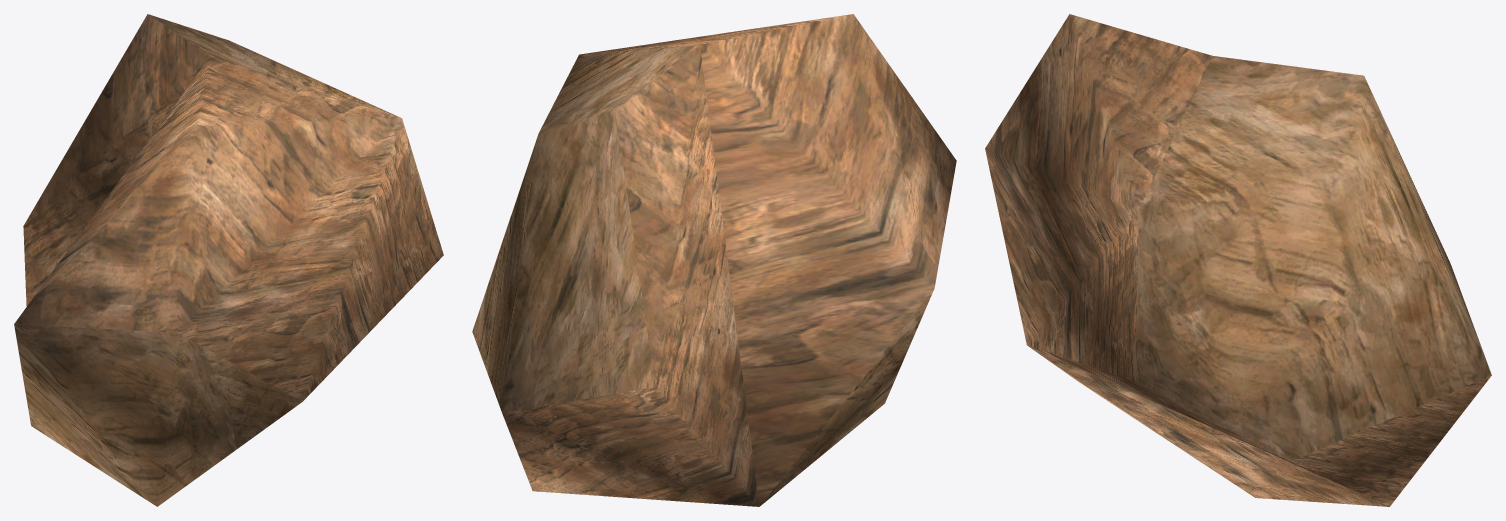
File: rock_tatt_bensmesa_boulder_a2_l3.fbx
The picture shows the model from 3 angles, left to right: view 1: azimuth 30°, elevation 25°; view 2: azimuth 150°, elevation 25°; view 3: azimuth 270°, elevation 25°; orthographic projection. The views are drawn at different scales.
Parts seen in each view (by area): view 1: mesh_node; view 2: mesh_node; view 3: mesh_node.
Boxes of the visible parts, bbox=[...] form: mesh_node: bbox=[14, 14, 443, 506]; mesh_node: bbox=[472, 14, 956, 506]; mesh_node: bbox=[985, 14, 1491, 506].
Size of the model in its own units: 3.11 by 3.14 by 3.22.
